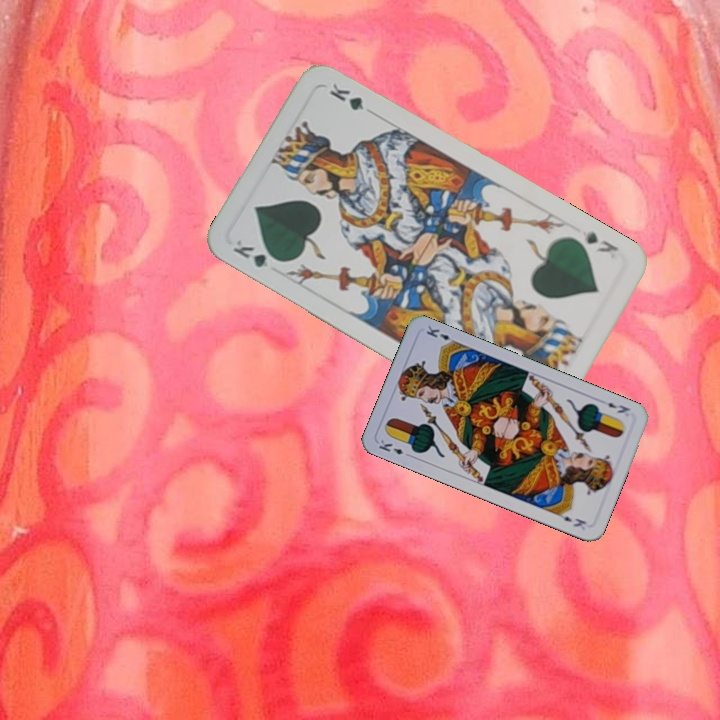EK: (374, 435, 414, 460), (604, 398, 633, 416)
GK: (228, 235, 285, 270), (578, 226, 621, 256)
